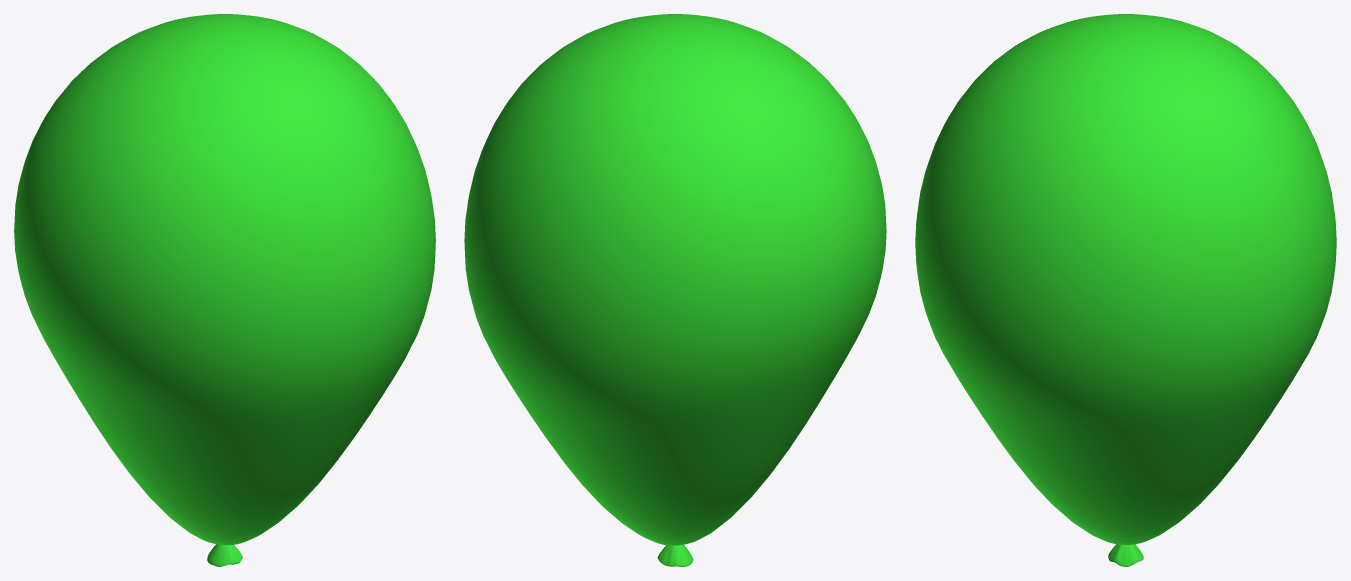
The model's file is BalloonOhneSchnur_grün.fbx.
The picture shows the model from 3 angles, left to right: view 1: azimuth 30°, elevation 25°; view 2: azimuth 150°, elevation 25°; view 3: azimuth 270°, elevation 25°; orthographic projection.
Visible parts, largest first — view 1: Sphere, Cone; view 2: Sphere, Cone; view 3: Sphere, Cone.
Part boxes in pixels (x1,y1,x2,y2): Sphere: (14, 14, 435, 545); Cone: (207, 544, 242, 566); Sphere: (464, 14, 886, 545); Cone: (657, 544, 693, 566); Sphere: (915, 14, 1336, 544); Cone: (1108, 544, 1143, 566).
Bounding box in the file's own units: 197 × 272 × 197.
